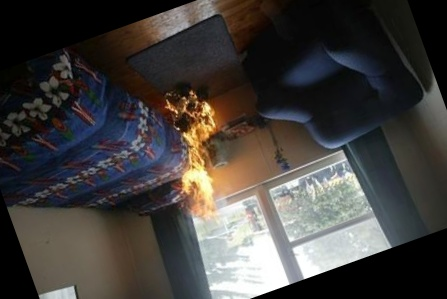fire: (135, 74, 259, 242)
